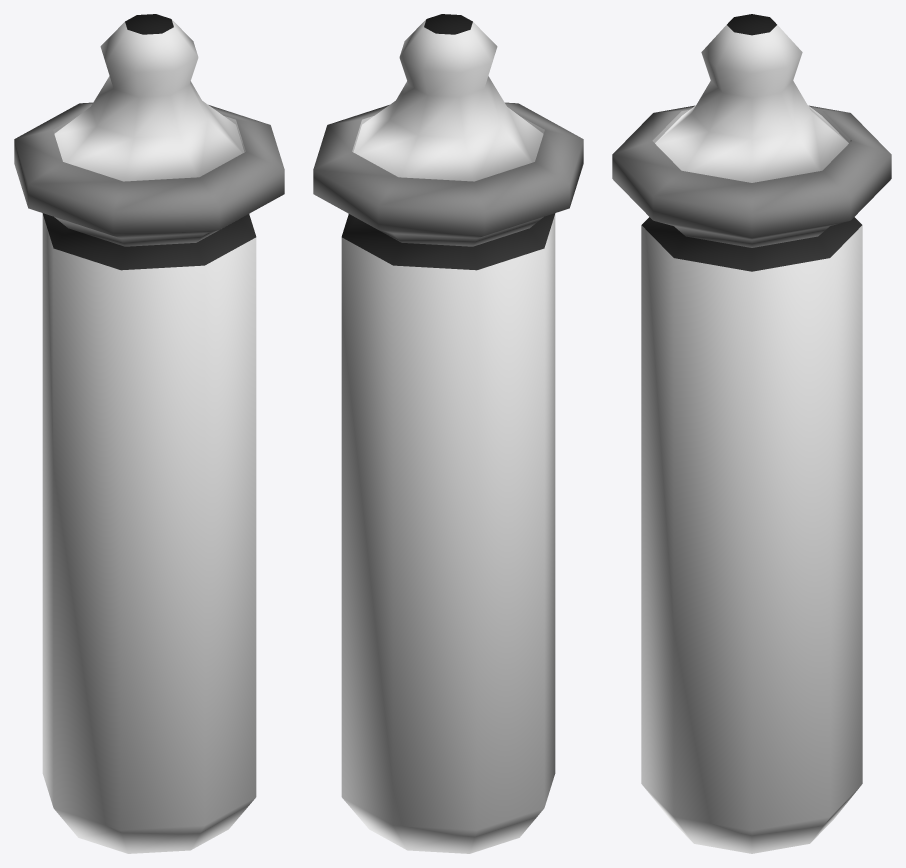
The model's file is obj1Baby.fbx.
3 renders of one model, left to right at view 1: azimuth 30°, elevation 25°; view 2: azimuth 150°, elevation 25°; view 3: azimuth 270°, elevation 25°, orthographic.
Parts seen in each view (by area): view 1: 1objBaby; view 2: 1objBaby; view 3: 1objBaby.
Part boxes in pixels (x1=…): 1objBaby: x1=14, y1=14, x2=284, y2=853; 1objBaby: x1=313, y1=14, x2=583, y2=853; 1objBaby: x1=612, y1=14, x2=891, y2=853.
Size of the model in its own units: 8.29 by 26 by 8.29.
